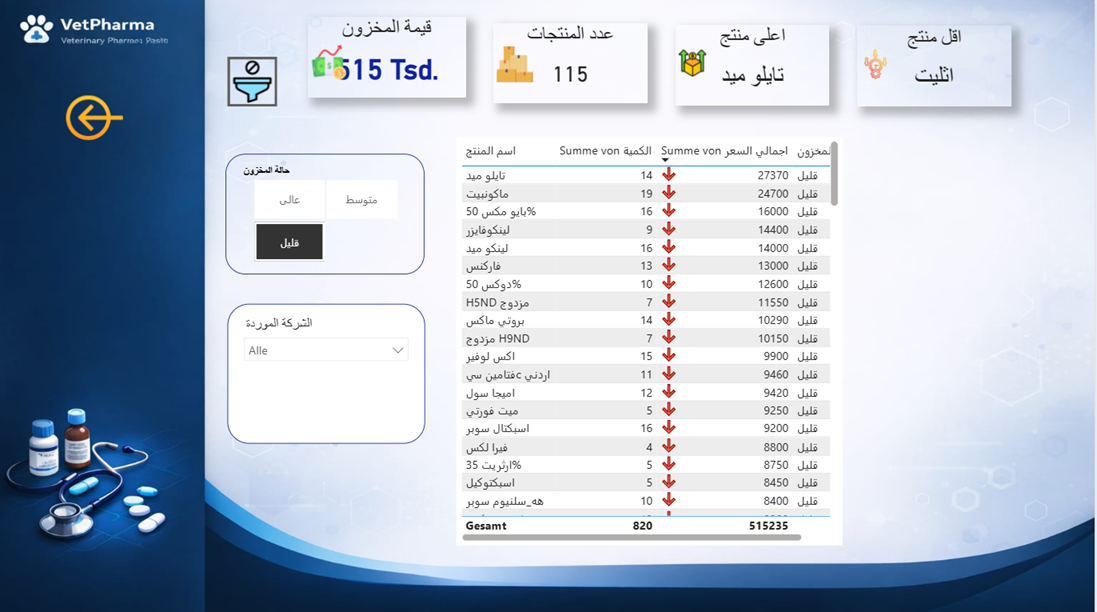

What the dashboard file says about the page in this screenshot:
{"tool":"powerbi","page":{"name":"product analysis","canvas":[1280,720],"ordinal":2},"visuals":[{"type":"slicer","fields":{"Values":["table.حالة المخزون"]},"box":[269.8,181.8,230.8,139.9],"z":0},{"type":"slicer","fields":{"Values":["table.الشركة الموردة "]},"box":[271.3,356.2,229.6,162.8],"z":1000},{"type":"card","title":"قيمة المخزون","fields":{"Values":["Sum(table.اجمالي السعر)"]},"box":[364.5,23.6,183.7,93.2],"z":2000},{"type":"card","title":"عدد المنتجات","fields":{"Values":["Count(المخزون1.اسم المنتج)"]},"box":[580.2,30.6,179.5,93.2],"z":3000},{"type":"actionButton","title":"unfilter","box":[271.4,70,57.9,57.9],"z":4000},{"type":"tableEx","fields":{"Values":["table.اسم المنتج","Sum(table.الكمية)","Sum(table.اجمالي السعر)","table.حالة المخزون"]},"box":[538.1,163,448.7,474.7],"z":5000},{"type":"actionButton","box":[364.5,32,50.1,86.3],"z":6000},{"type":"actionButton","box":[580.2,36.2,50.1,84.9],"z":7000},{"type":"actionButton","box":[75.1,98.8,100.2,83.5],"z":8000},{"type":"card","title":"اعلى منتج","fields":{"Values":["table.Top Product"]},"box":[791.6,32,179.5,93.2],"z":9000},{"type":"card","title":"اقل منتج","fields":{"Values":["table.low product"]},"box":[1003.1,33.4,179.5,93.2],"z":10000},{"type":"actionButton","box":[791.6,36.2,40.4,82.1],"z":11000},{"type":"actionButton","box":[1003.1,36.2,43.1,84.9],"z":12000}]}

Visuals, with their boxes in screenshot pixels (x1, y1, x2, y2), scaled from the page's 1280x720 canvas onto the 1097x612 screenshot:
slicer - table.حالة المخزون: [left=231, top=155, right=429, bottom=273]
slicer - table.الشركة الموردة : [left=233, top=303, right=429, bottom=441]
"قيمة المخزون" card: [left=312, top=20, right=470, bottom=99]
"عدد المنتجات" card: [left=497, top=26, right=651, bottom=105]
"unfilter" actionButton: [left=233, top=60, right=282, bottom=109]
tableEx - table.اسم المنتج x Sum(table.الكمية): [left=461, top=139, right=846, bottom=542]
actionButton: [left=312, top=27, right=355, bottom=101]
actionButton: [left=497, top=31, right=540, bottom=103]
actionButton: [left=64, top=84, right=150, bottom=155]
"اعلى منتج" card: [left=678, top=27, right=832, bottom=106]
"اقل منتج" card: [left=860, top=28, right=1014, bottom=108]
actionButton: [left=678, top=31, right=713, bottom=101]
actionButton: [left=860, top=31, right=897, bottom=103]
